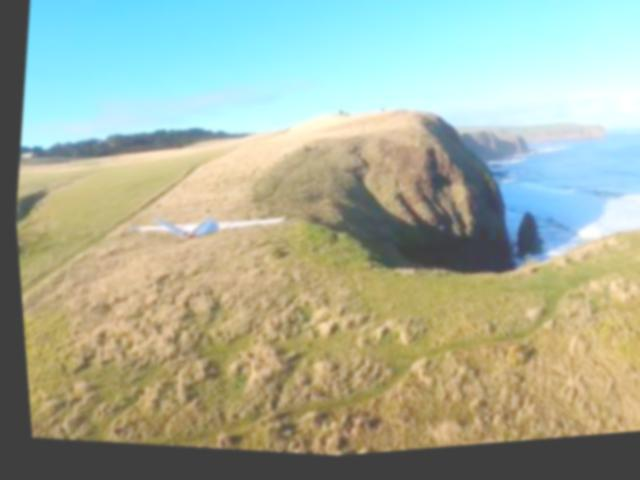uav: (126, 197, 287, 264)
